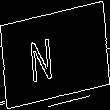N_N: (42, 27, 68, 83)
